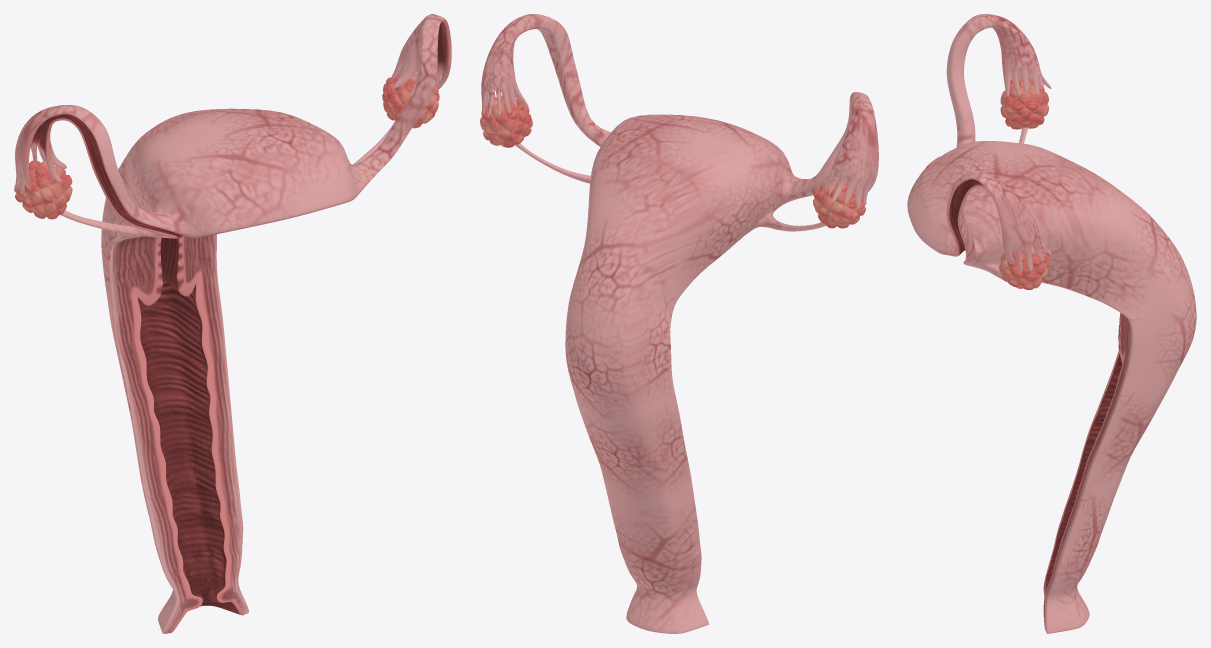
Rendered from uterus.glb.
3 renders of one model, left to right at view 1: azimuth 30°, elevation 25°; view 2: azimuth 150°, elevation 25°; view 3: azimuth 270°, elevation 25°, orthographic. The views are drawn at different scales.
Visible parts, largest first — view 1: Object_4, Object_2, Object_3; view 2: Object_4, Object_3, Object_2; view 3: Object_4, Object_2, Object_3.
Part boxes in pixels (x1,y1,x2,y2): Object_4: (15,14,451,633); Object_2: (14,160,72,219); Object_3: (382,72,439,128); Object_4: (481,14,878,633); Object_3: (480,95,532,147); Object_2: (813,180,866,228); Object_4: (907,14,1196,633); Object_2: (1000,78,1048,129); Object_3: (999,244,1049,290).
Bounding box in the file's own units: 4.4 × 5.76 × 2.88.
2 materials, 2 textured.
